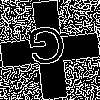G: (25, 25, 69, 75)
